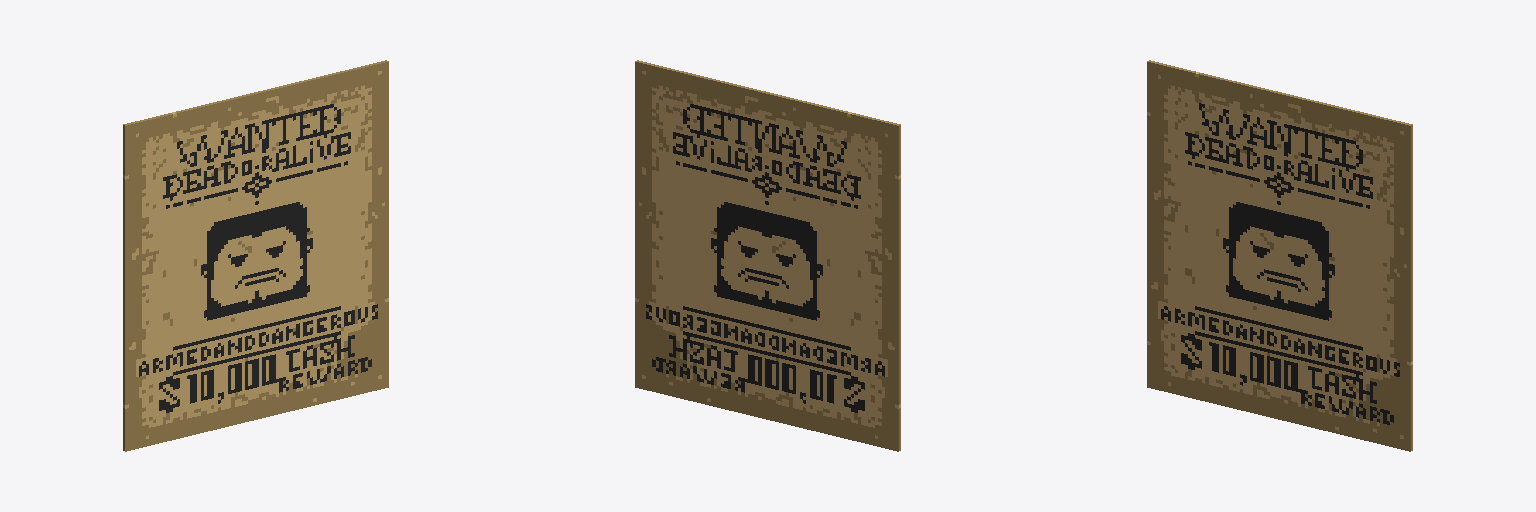
3 renders of one model, left to right at view 1: azimuth 30°, elevation 25°; view 2: azimuth 150°, elevation 25°; view 3: azimuth 330°, elevation 25°, orthographic.
Parts seen in each view (by area): view 1: object 1; view 2: object 1; view 3: object 1.
Part boxes in pixels (bbox=[...]): object 1: bbox=[123, 60, 388, 451]; object 1: bbox=[635, 60, 900, 451]; object 1: bbox=[1147, 60, 1412, 451].
Size of the model in its own units: 7.7 by 9.1 by 0.1.
Materials: 1 (1 with a texture image).